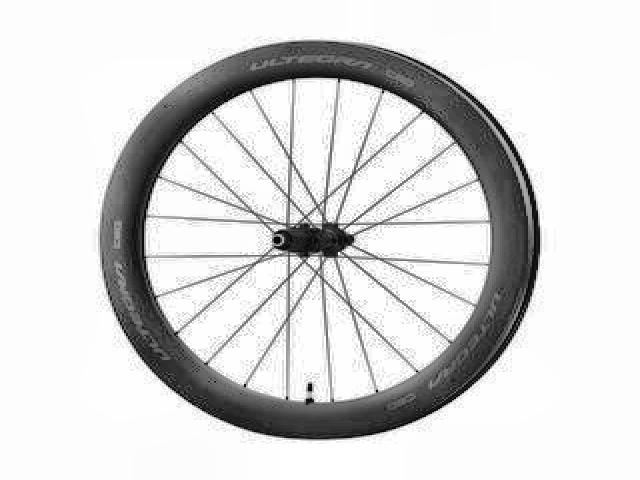wheel: (88, 36, 548, 447)
